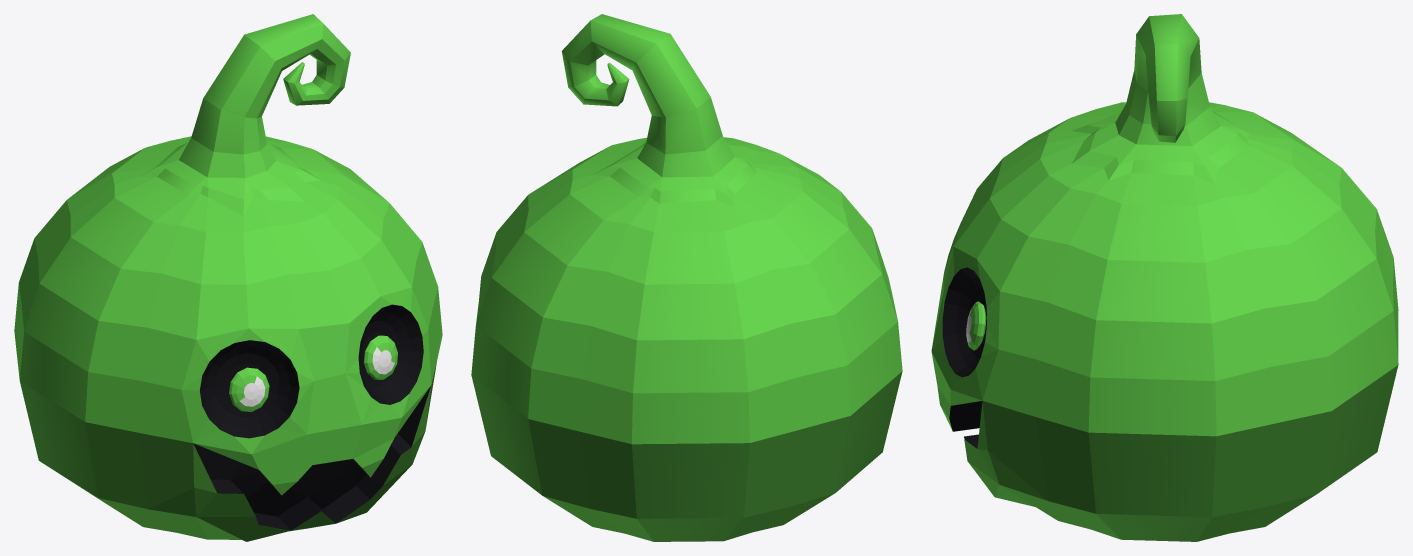
File: Giant_Slime.fbx
3 views of the same model, side by side, from view 1: azimuth 30°, elevation 25°; view 2: azimuth 150°, elevation 25°; view 3: azimuth 270°, elevation 25° (orthographic). The views are drawn at different scales.
Visible parts, largest first — view 1: Giant_Slime_Below, Giant_Slime_Upper; view 2: Giant_Slime_Below, Giant_Slime_Upper; view 3: Giant_Slime_Below, Giant_Slime_Upper.
Part boxes in pixels (bbox=[...]): Giant_Slime_Below: bbox=[14, 14, 442, 495]; Giant_Slime_Upper: bbox=[20, 362, 436, 541]; Giant_Slime_Below: bbox=[471, 14, 902, 444]; Giant_Slime_Upper: bbox=[471, 371, 902, 541]; Giant_Slime_Below: bbox=[931, 14, 1398, 436]; Giant_Slime_Upper: bbox=[964, 365, 1398, 541].
Size of the model in its own units: 0.6852 by 0.7915 by 0.6829.
